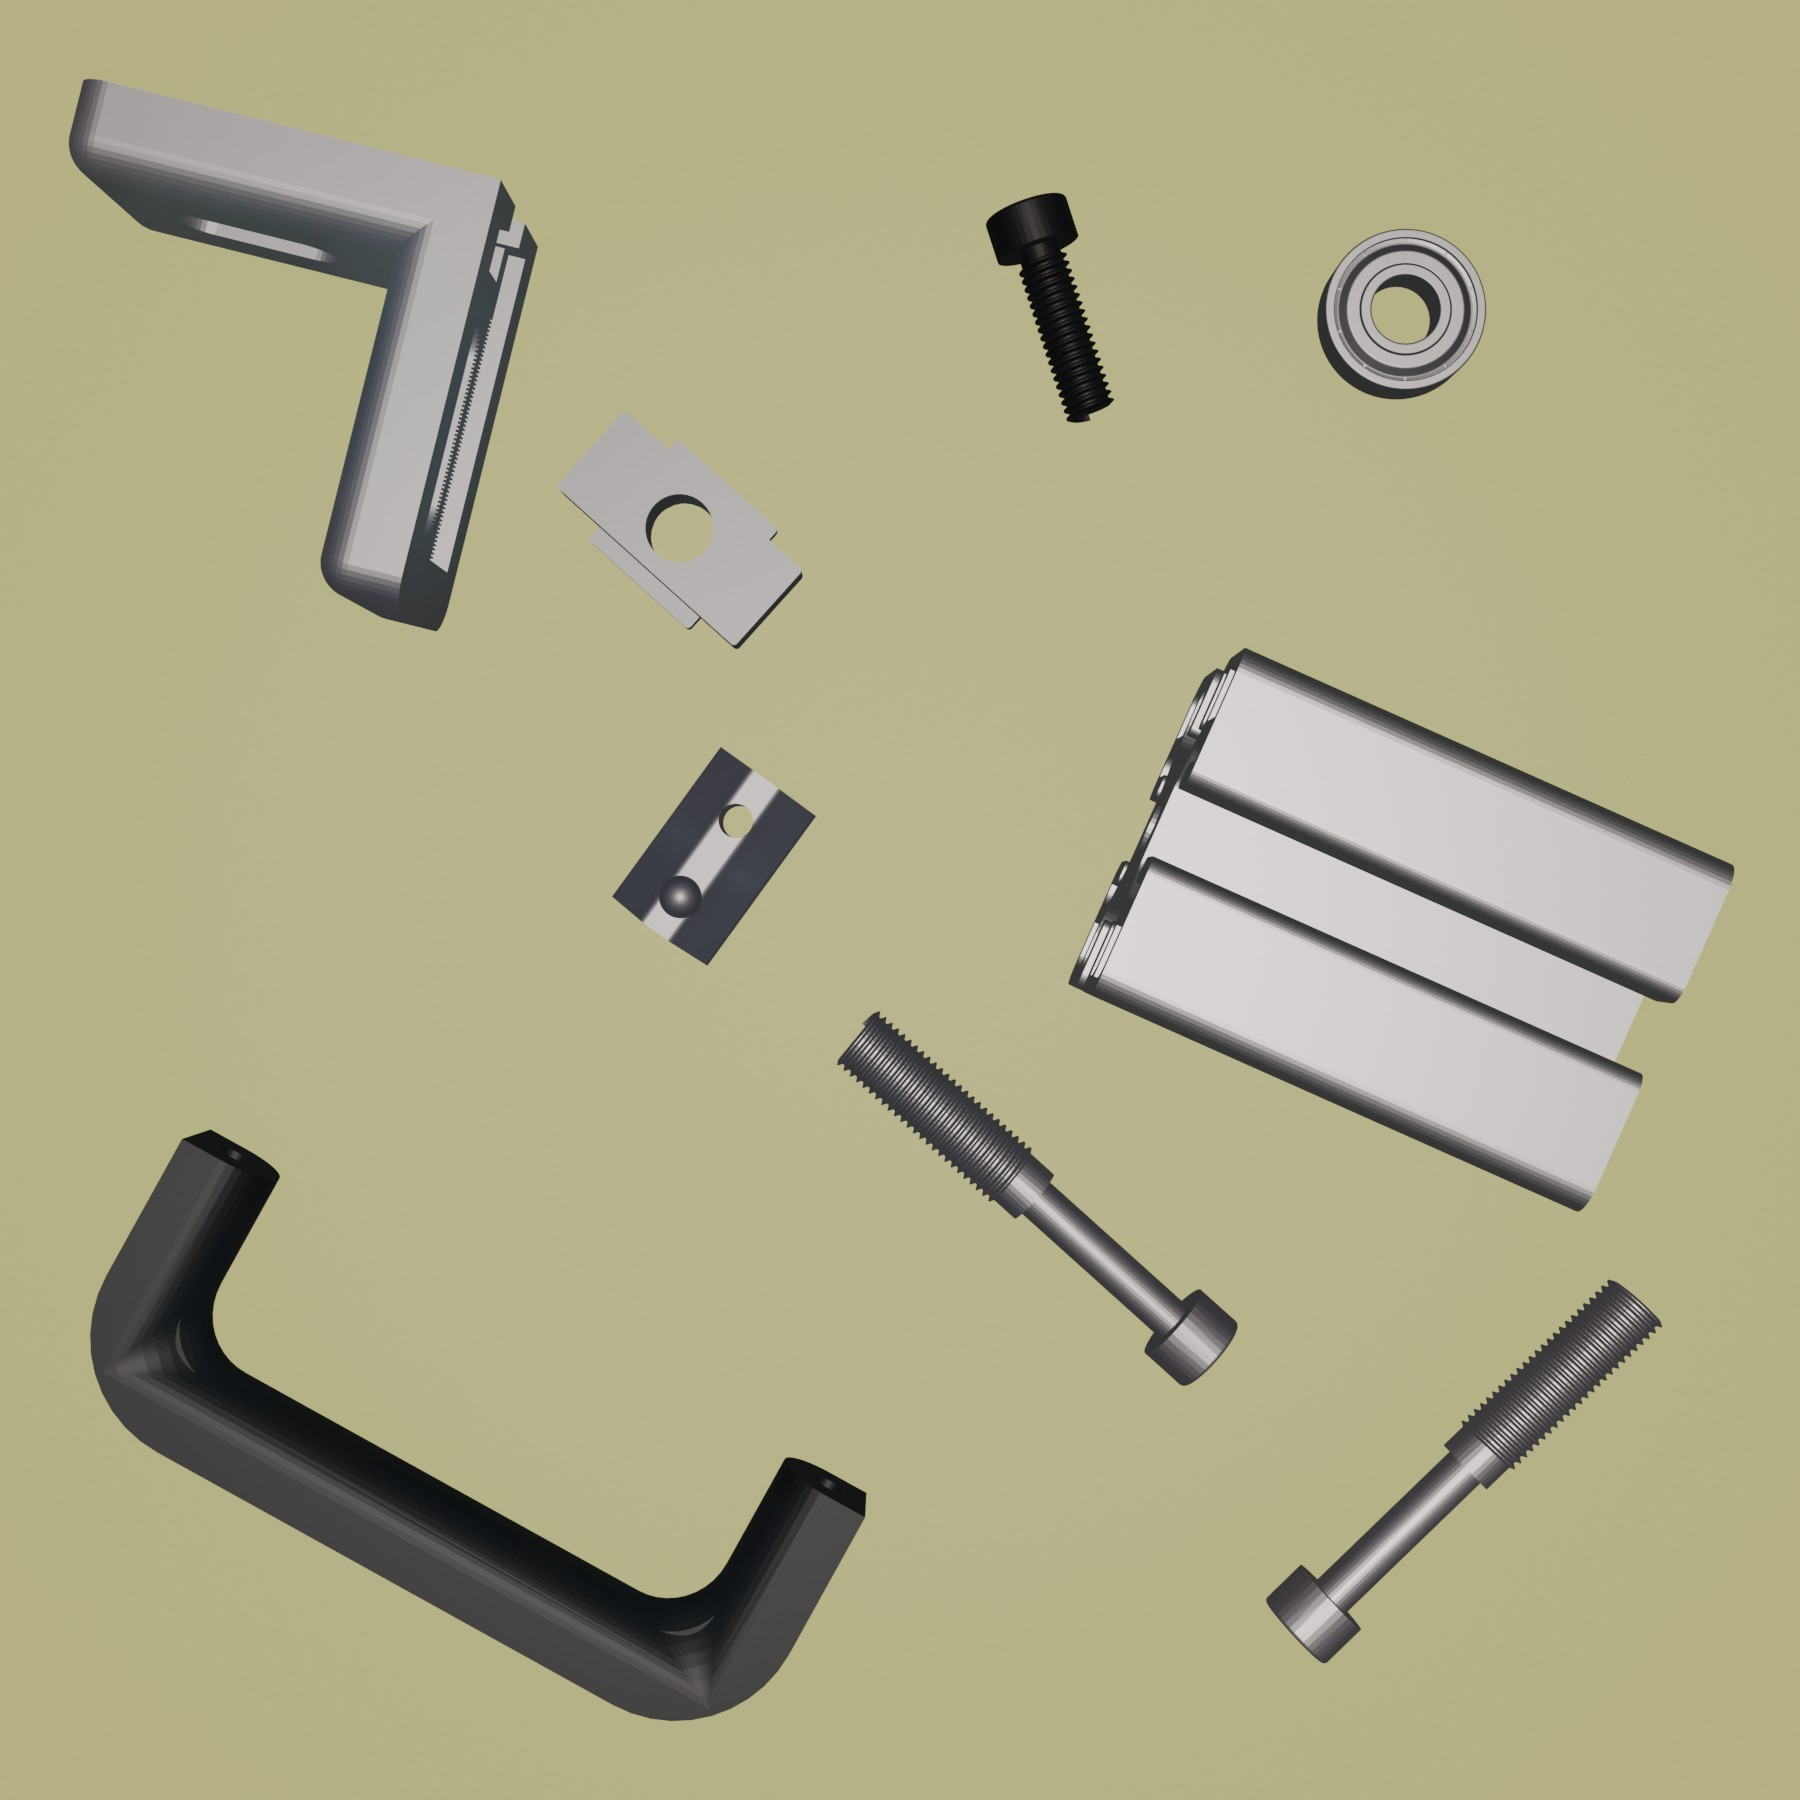Aluminium Extension: (1066, 643, 1736, 1213)
Ball Bearing: (1315, 226, 1488, 401)
Multiwinkel: (68, 76, 539, 635)
Pull Handle: (86, 1123, 870, 1724)
Shoulder Socket Head Cap Screw: (1263, 1277, 1666, 1670), (836, 1012, 1240, 1388)
Socket Head Cap Screw: (982, 191, 1114, 425)
T Nut Square: (551, 409, 804, 653)
T Spring Nut: (612, 747, 819, 969)
